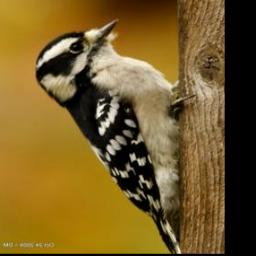Woodpecker: (34, 18, 192, 253)
